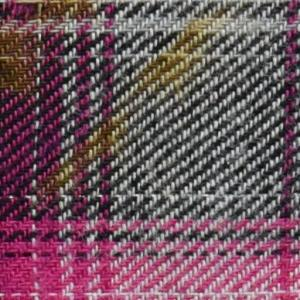Oil Stain: (126, 7, 233, 105), (44, 114, 133, 197), (1, 32, 43, 99), (19, 1, 92, 24)
